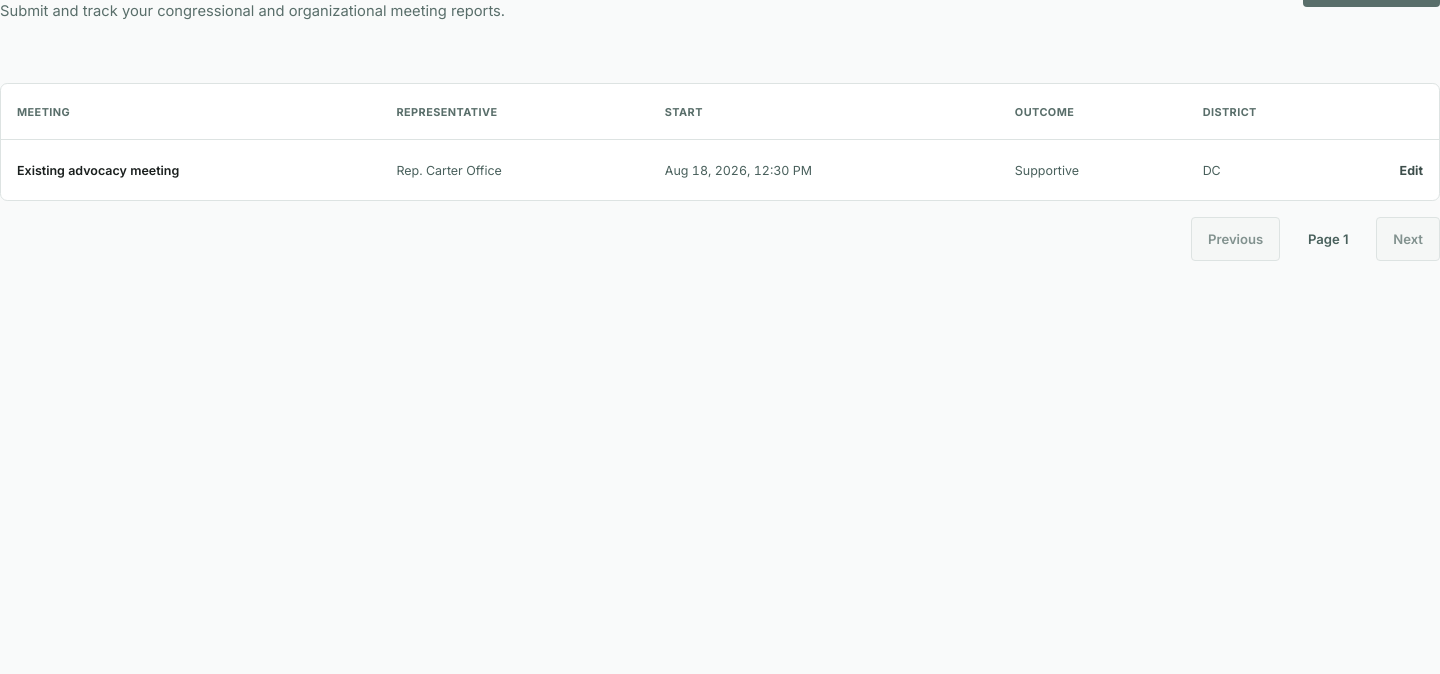
Test case: Administrators can edit another user report through the existing form and update workflow
Click the link "Edit": (1411, 170) [1400, 163, 1423, 178]
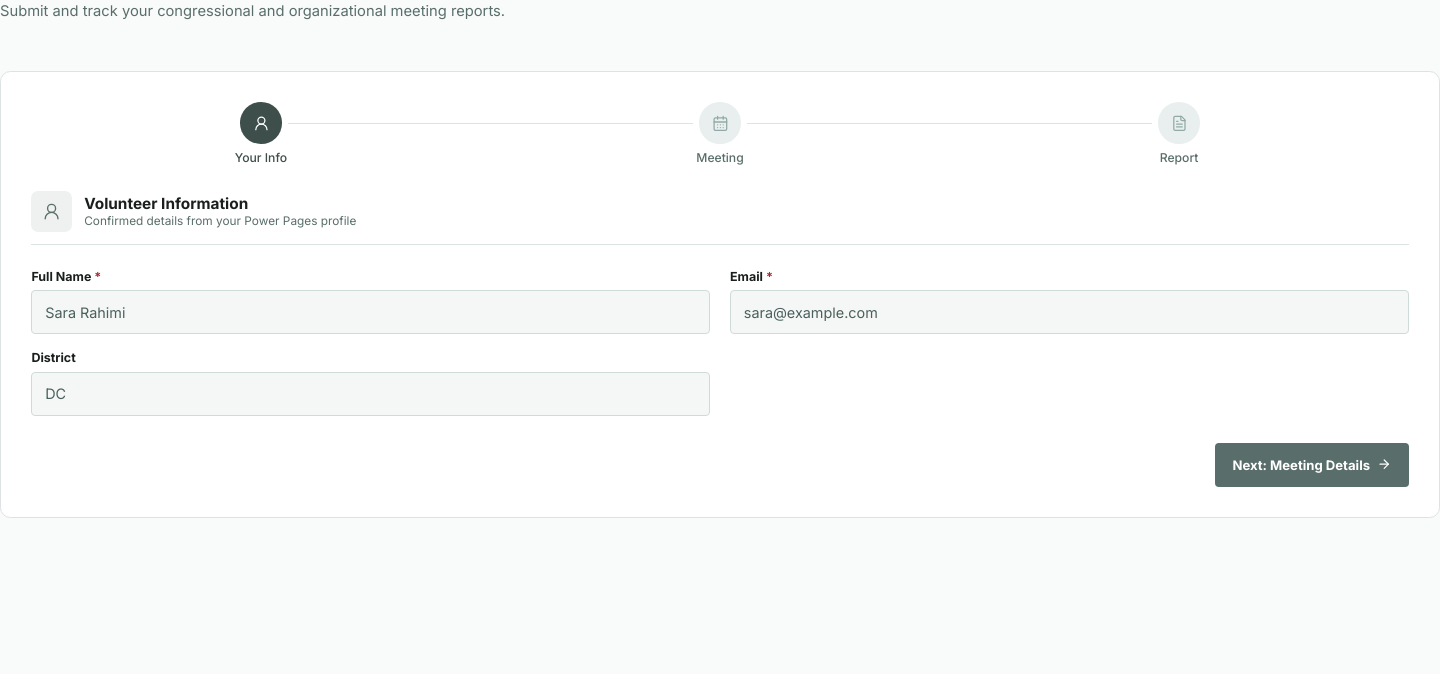
Result: the field showing "Sara Rahimi" is shown at [31, 290, 710, 334]
Click the button "Next: Meeting Details": (1312, 465) [1216, 443, 1409, 487]
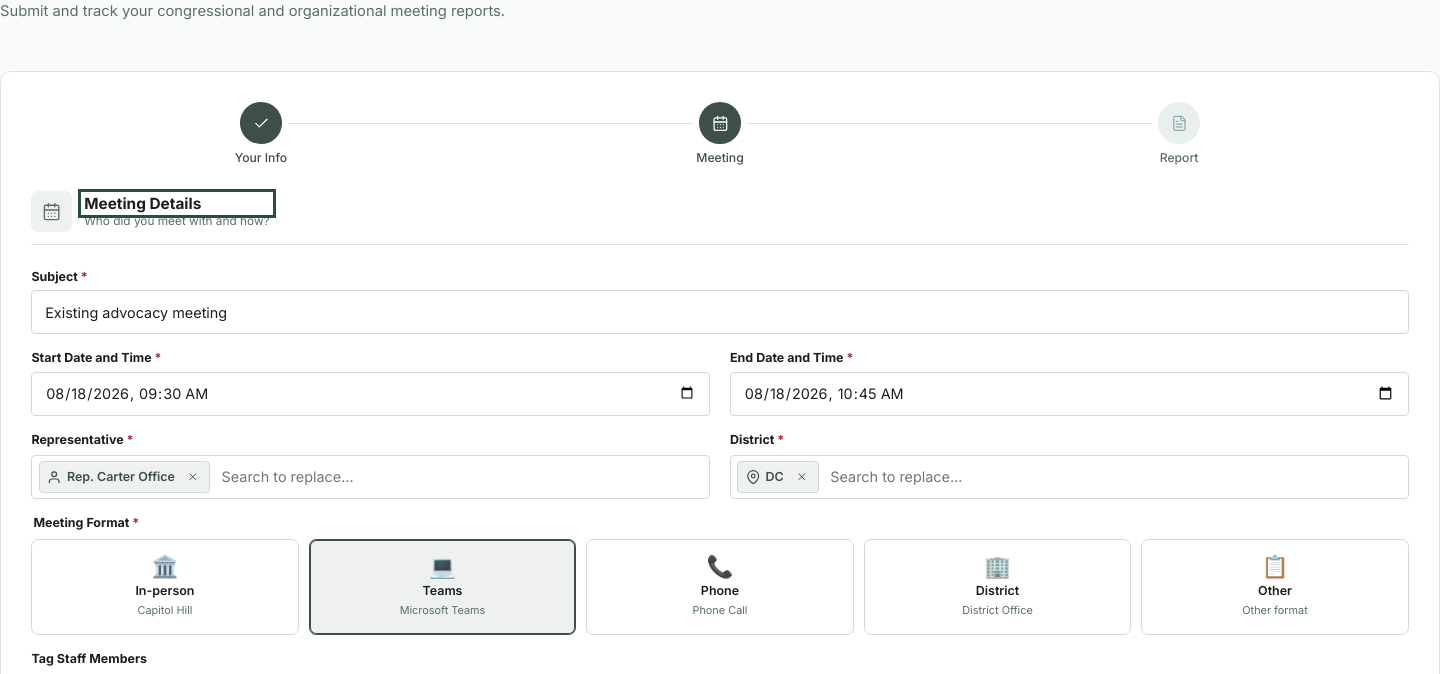
Replace the text in the field labelled "Subject" with "Administrator correction": (720, 312) [31, 290, 1409, 334]
(page scrolled)
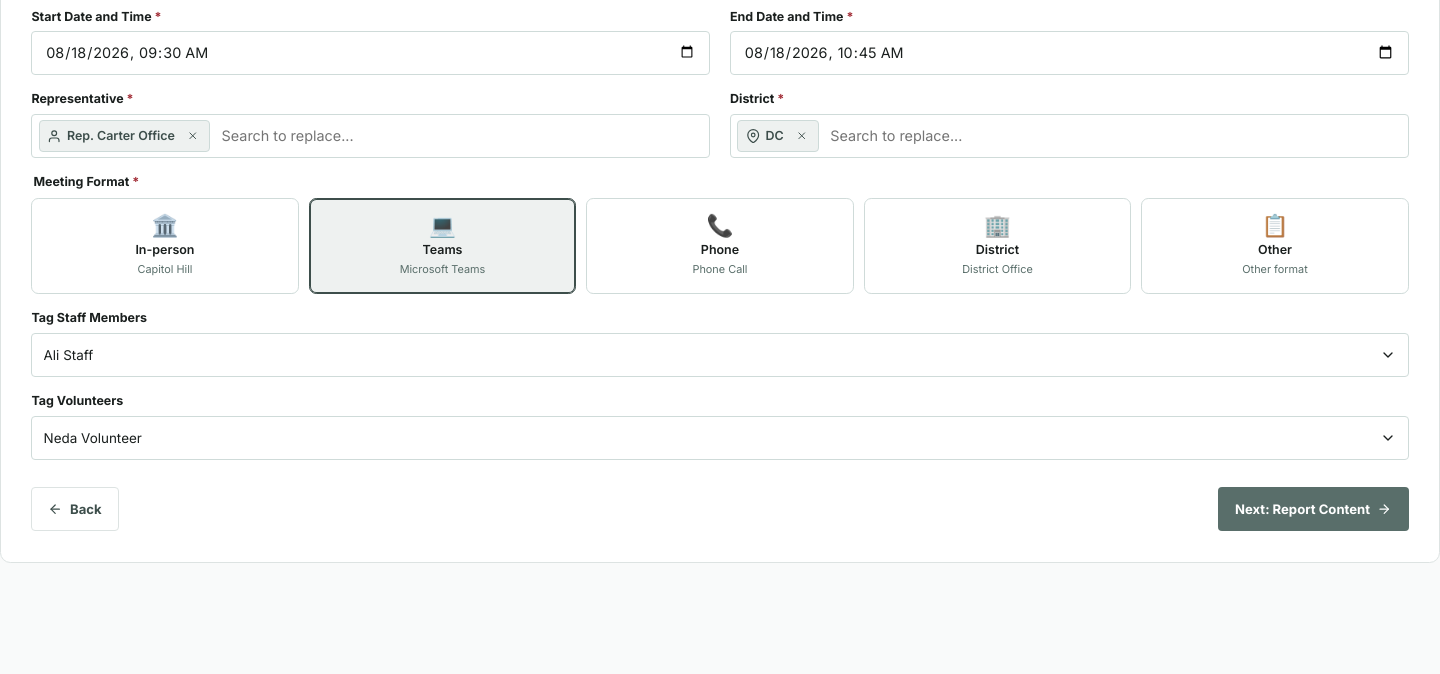
Click the button "Next: Report Content": (1313, 509) [1218, 487, 1409, 531]
(page scrolled)
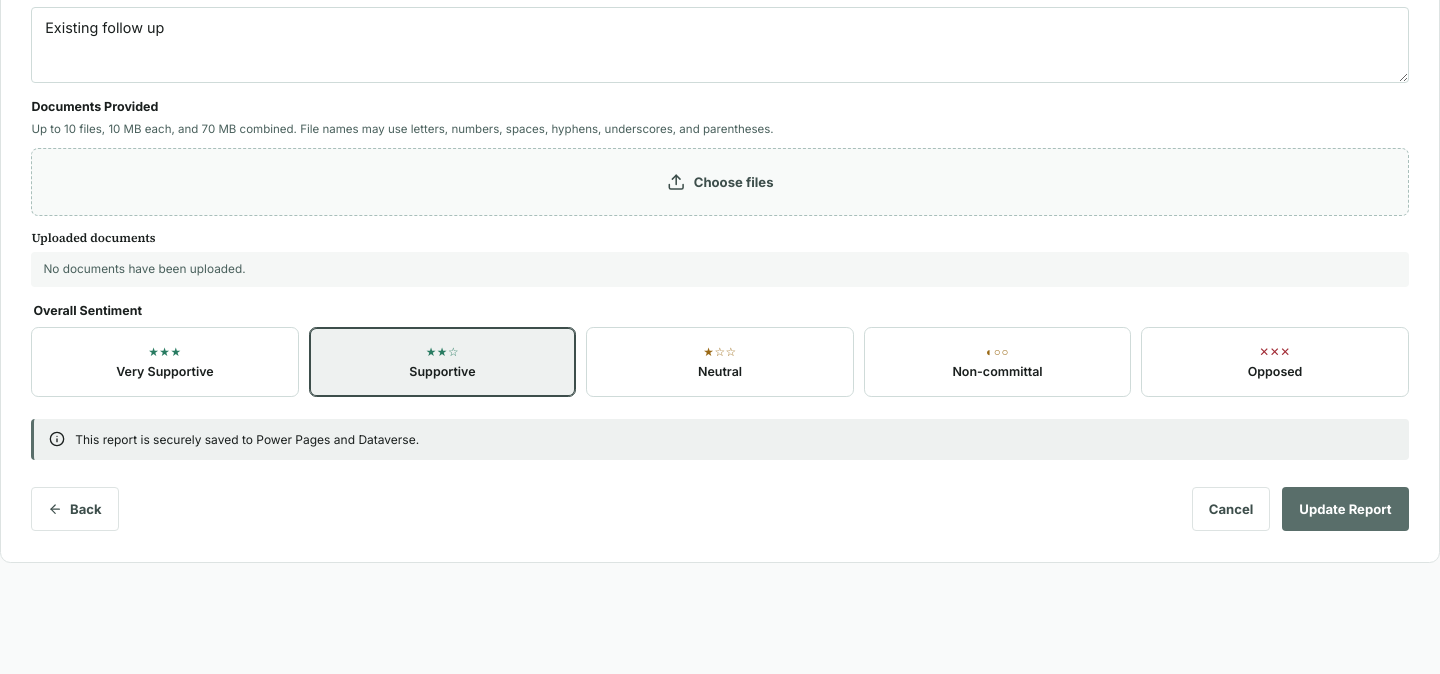
Click the button "Update Report": (1345, 509) [1282, 487, 1409, 531]
(page scrolled)
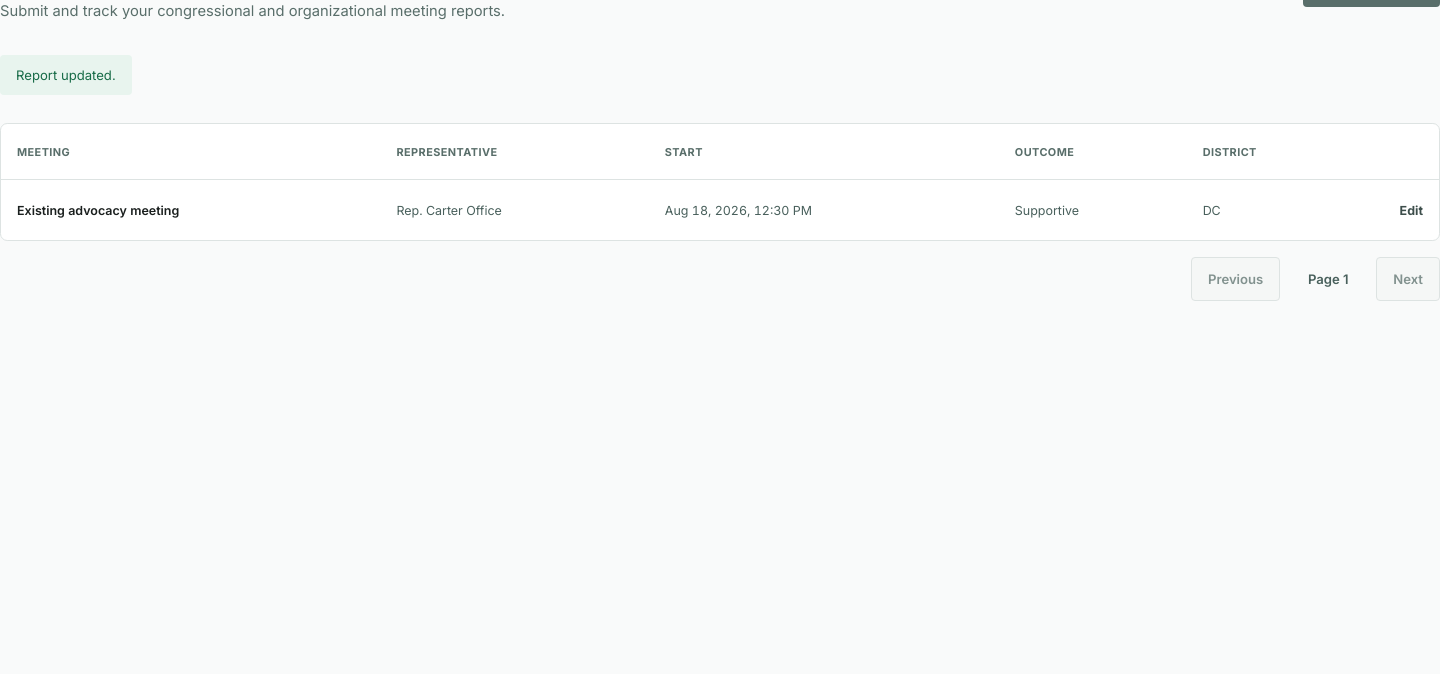
Result: the text "Report updated." is shown at [0, 55, 132, 95]
